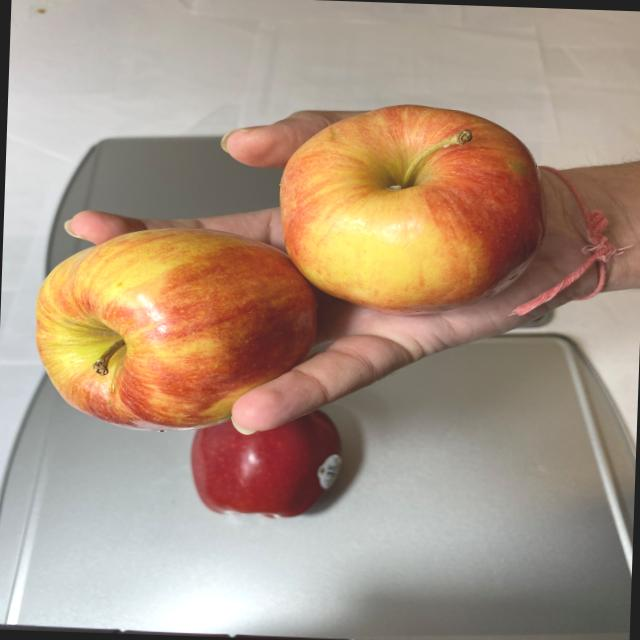apple: (31, 90, 544, 446), (168, 408, 352, 520)
